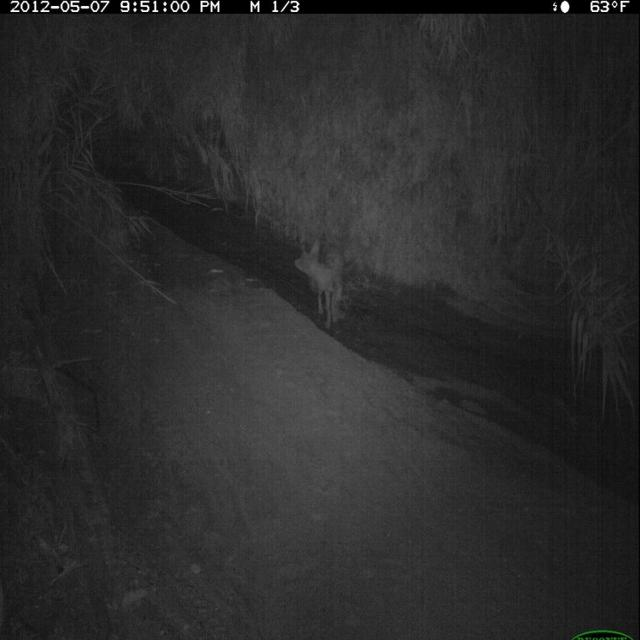coyote: (293, 234, 351, 331)
